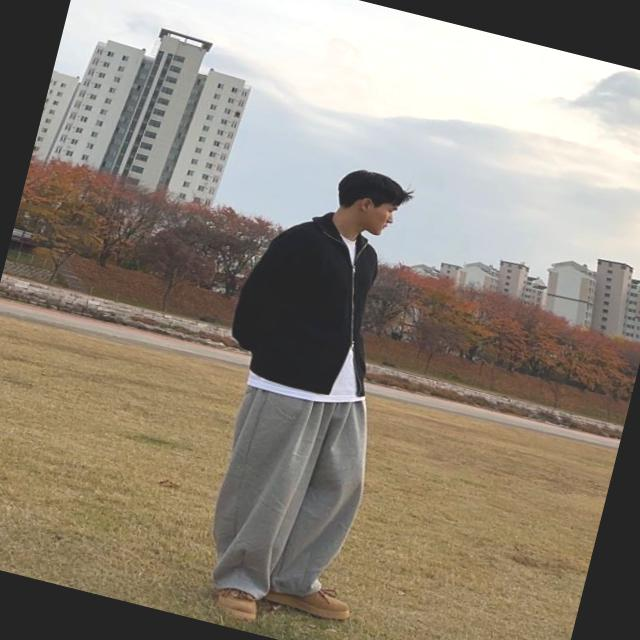cardigan: (218, 192, 404, 404)
trainingpants: (197, 370, 383, 618)
